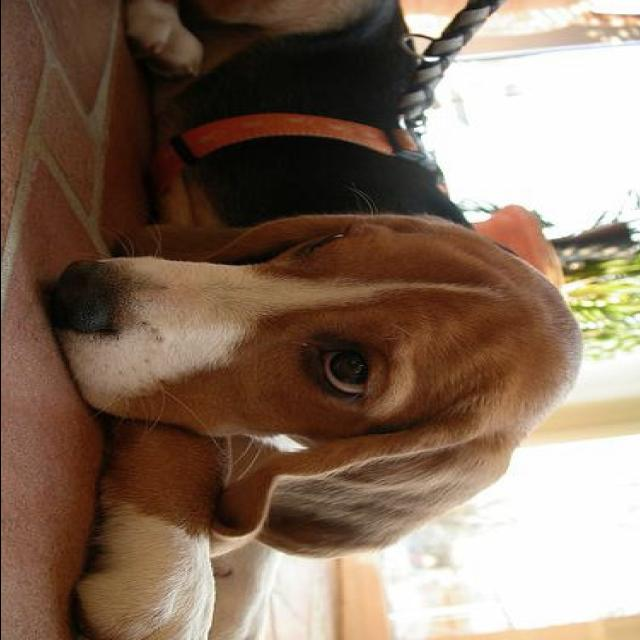beagle: (51, 1, 584, 640)
